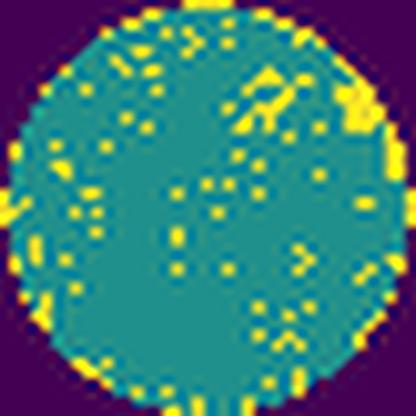Edge-Loc: (335, 51, 414, 183)
